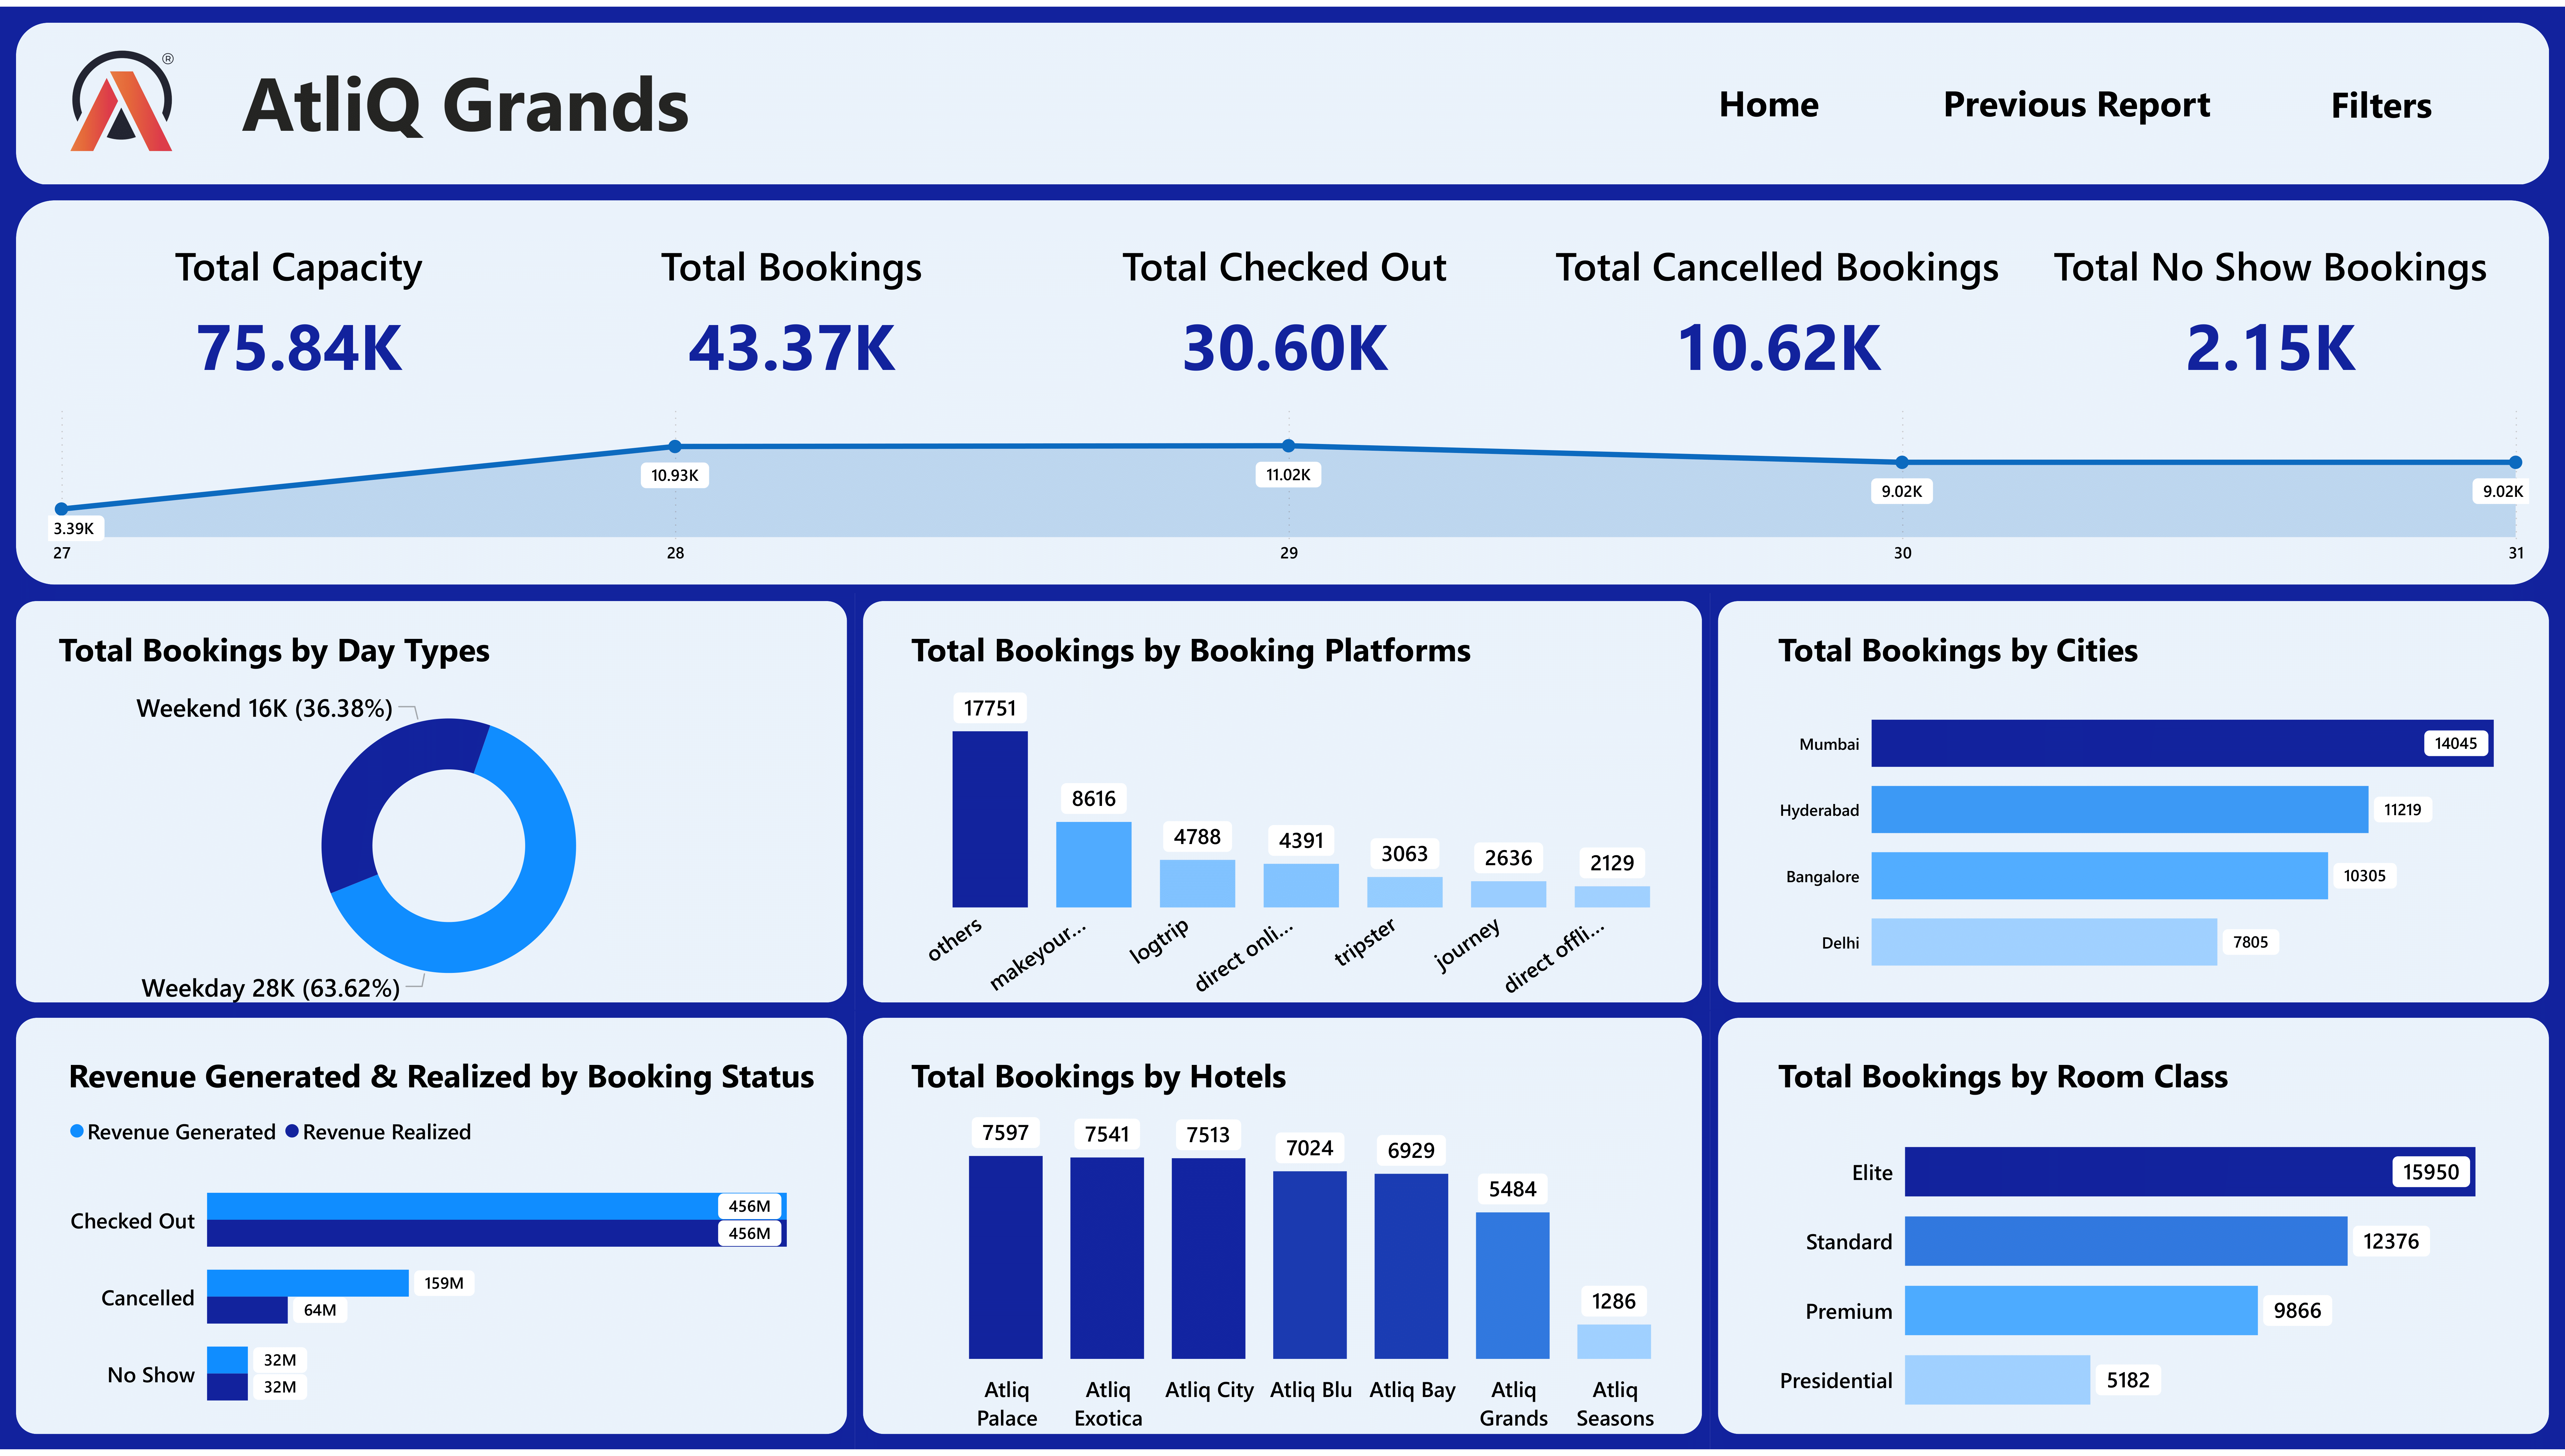

The page's visual inventory and layout, read from the dashboard file:
{"tool":"powerbi","page":{"name":"Bookings Insights","canvas":[1920,1080],"ordinal":4},"visuals":[{"type":"shape","box":[640,751.3,640,329.6],"z":0},{"type":"shape","box":[1280,438.8,640,312.5],"z":1000},{"type":"shape","box":[0,0,1920.4,139.4],"z":2000},{"type":"image","box":[47,24.6,89.6,89.6],"z":3000},{"type":"textbox","box":[175.5,27.8,449.5,89.9],"z":4000},{"type":"actionButton","title":"Filters ","box":[1682.4,27.8,201.2,87.8],"z":5000},{"type":"actionButton","title":"View Dashboards","box":[1223.3,27.5,202.3,88.4],"z":6000},{"type":"shape","box":[640,438.8,640,312.5],"z":13000},{"type":"shape","box":[0,751.3,640,329.6],"z":14000},{"type":"shape","box":[0,438.8,640,312.5],"z":16000},{"type":"clusteredColumnChart","title":"Total Bookings by Booking Platforms","fields":{"Category":["fact_bookings.booking_platform"],"Y":["Key Measures.Total Bookings"]},"box":[670,451.6,610,310.4],"z":17000},{"type":"clusteredBarChart","title":"Total Bookings by Cities","fields":{"Y":["Key Measures.Total Bookings"],"Category":["dim_hotels.city"]},"box":[1318.5,451.6,601.5,299.7],"z":18000},{"type":"shape","box":[0,139.1,1920,299.7],"z":19000},{"type":"areaChart","title":"Total Bookings by Weeks","fields":{"Category":["dim_date.wk_no"],"Y":["Key Measures.Total Bookings"]},"box":[23.5,289,1875.1,139.1],"z":20000},{"type":"shape","box":[1280,751.3,640,329.6],"z":21000},{"type":"donutChart","title":"Total Bookings by Day Types","fields":{"Y":["Key Measures.Total Bookings"],"Category":["dim_date.day_type"]},"box":[32.1,451.6,607.9,310.4],"z":22000},{"type":"clusteredBarChart","title":"Total Bookings by Room Class","fields":{"Y":["Key Measures.Total Bookings"],"Category":["dim_rooms.room_class"]},"box":[1318.5,770.6,601.5,310.4],"z":23000},{"type":"clusteredBarChart","title":"Revenue Generated & Realized by Booking Status","fields":{"Y":["Sum(fact_bookings.revenue_generated)","Sum(fact_bookings.revenue_realized)"],"Category":["fact_bookings.booking_status"]},"box":[38.5,770.6,601.5,310.4],"z":24000},{"type":"clusteredColumnChart","title":"Total Bookings by Hotels","fields":{"Category":["dim_hotels.property_name"],"Y":["Key Measures.Total Bookings"]},"box":[670,770.6,610,310.4],"z":25000},{"type":"actionButton","title":"View Dashboards","box":[1425.6,27.5,257.2,88.4],"z":26000},{"type":"cardVisual","fields":{"Data":["Key Measures.Total Capacity","Key Measures.Total Bookings","Key Measures.Total Checked Out","Key Measures.Total Cancelled Bookings","Key Measures.Total No Show Bookings"]},"box":[38.5,154.1,1845.1,149.8],"z":27000}]}

Visuals, with their boxes in screenshot pixels (x1, y1, x2, y2), scaled from the page's 1920x1080 canvas onto the 2565x1456 screenshot:
shape: BBox(855, 1013, 1710, 1456)
shape: BBox(1710, 591, 2565, 1013)
shape: BBox(0, 0, 2565, 188)
image: BBox(63, 33, 182, 154)
textbox: BBox(234, 38, 835, 159)
"Filters " actionButton: BBox(2248, 38, 2516, 156)
"View Dashboards" actionButton: BBox(1634, 37, 1905, 156)
shape: BBox(855, 591, 1710, 1013)
shape: BBox(0, 1013, 855, 1456)
shape: BBox(0, 591, 855, 1013)
"Total Bookings by Booking Platforms" clusteredColumnChart: BBox(895, 609, 1710, 1027)
"Total Bookings by Cities" clusteredBarChart: BBox(1762, 609, 2565, 1013)
shape: BBox(0, 188, 2565, 591)
"Total Bookings by Weeks" areaChart: BBox(31, 389, 2536, 577)
shape: BBox(1710, 1013, 2565, 1456)
"Total Bookings by Day Types" donutChart: BBox(43, 609, 855, 1027)
"Total Bookings by Room Class" clusteredBarChart: BBox(1762, 1039, 2565, 1456)
"Revenue Generated & Realized by Booking Status" clusteredBarChart: BBox(51, 1039, 855, 1456)
"Total Bookings by Hotels" clusteredColumnChart: BBox(895, 1039, 1710, 1456)
"View Dashboards" actionButton: BBox(1905, 37, 2248, 156)
cardVisual - Key Measures.Total Capacity x Key Measures.Total Bookings: BBox(51, 208, 2516, 410)
